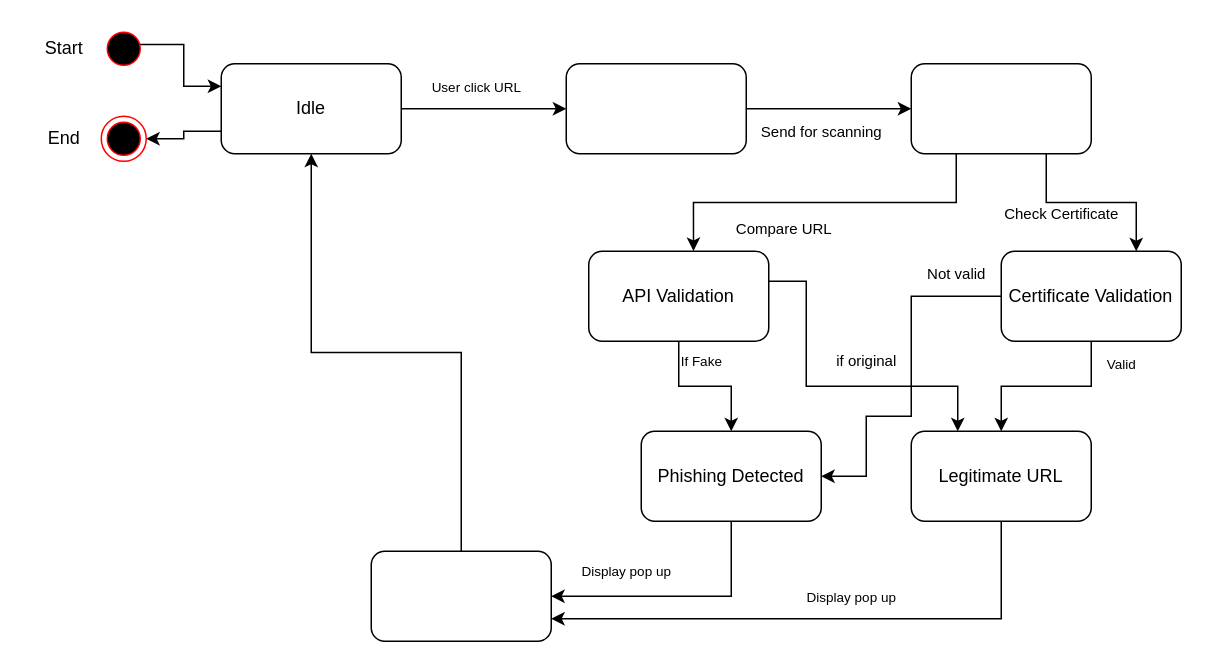
This 1208x668 diagram has some shape labels left out. Each missing label, with the centre of its shape:
"Display Result" goes at point 460,595.
"Scanning URL" goes at point 1000,108.
"URL Received" goes at point 655,108.
